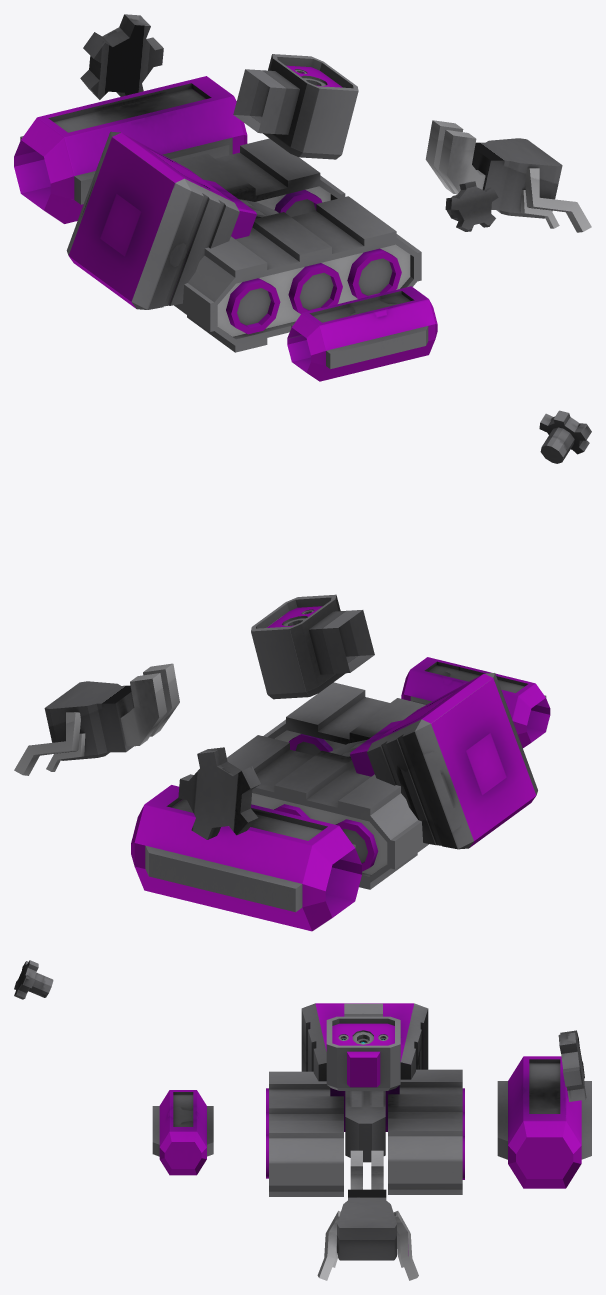
Rendered from Enemy2_Die24.obj.
3 views of the same model, one above another, from view 1: azimuth 30°, elevation 25°; view 2: azimuth 150°, elevation 25°; view 3: azimuth 270°, elevation 25° (orthographic). The views are drawn at different scales.
Parts seen in each view (by area): view 1: Object006, Object013, Object011, Object014, Object012, Object010, Object009, Object008; view 2: Object011, Object013, Object006, Object010, Object012, Object009, Object014, Object008; view 3: Object006, Object011, Object013, Object010, Object012, Object014, Object009, Object008.
Boxes of the visible parts, <box> form: Object006: <box>174,138,421,352</box>; Object013: <box>66,131,278,309</box>; Object011: <box>14,76,247,223</box>; Object014: <box>287,286,437,381</box>; Object012: <box>233,54,358,159</box>; Object010: <box>425,120,591,232</box>; Object009: <box>80,14,163,99</box>; Object008: <box>445,181,498,231</box>; Object011: <box>131,785,361,931</box>; Object013: <box>329,673,537,849</box>; Object006: <box>227,682,429,889</box>; Object010: <box>14,663,179,775</box>; Object012: <box>251,594,374,699</box>; Object009: <box>178,747,260,839</box>; Object014: <box>401,657,550,747</box>; Object008: <box>539,410,591,463</box>; Object006: <box>266,1069,464,1196</box>; Object011: <box>497,1056,591,1188</box>; Object013: <box>301,1003,428,1162</box>; Object010: <box>317,1150,418,1280</box>; Object012: <box>326,1003,400,1090</box>; Object014: <box>152,1090,213,1175</box>; Object009: <box>558,1030,586,1101</box>; Object008: <box>14,960,53,999</box>.
Size of the model in its own units: 191 by 103 by 264.
